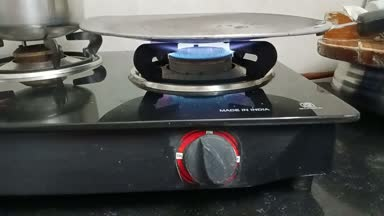flame_gas_on: (154, 43, 259, 187)
